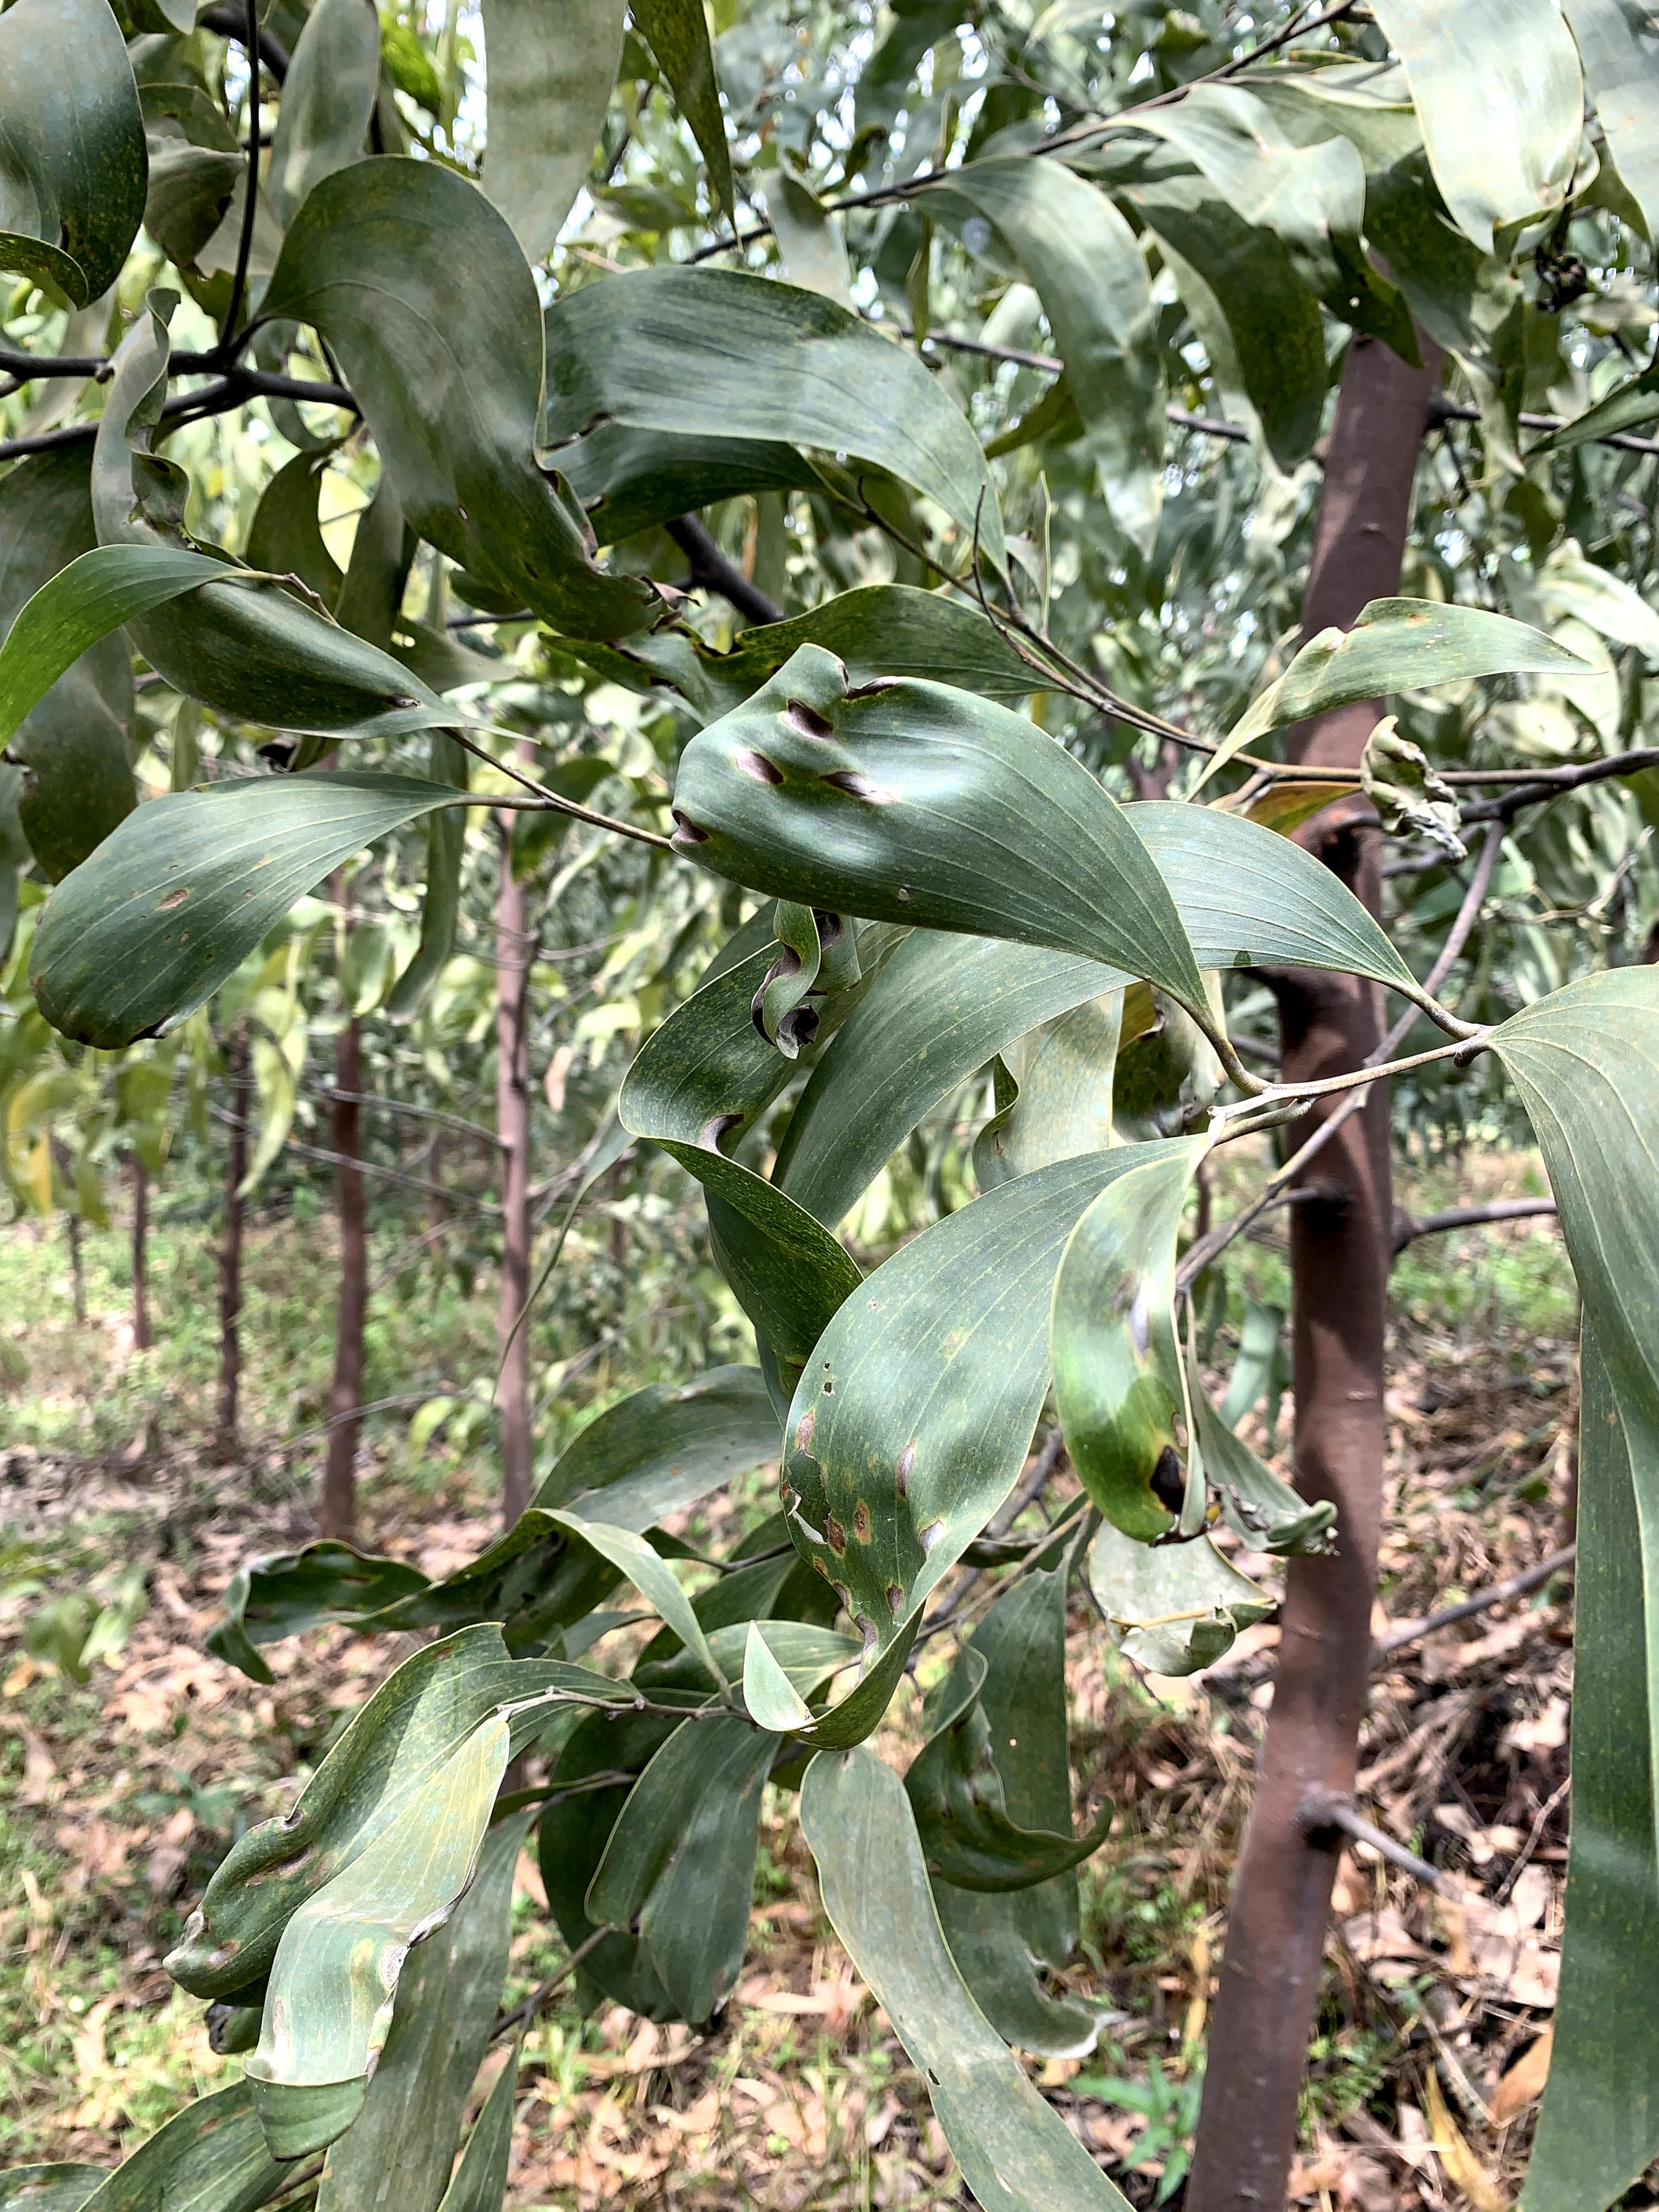Pasalora: (657, 627, 1202, 981), (274, 221, 650, 660), (77, 300, 413, 744), (1389, 5, 1659, 409), (789, 1197, 967, 1763), (1058, 1193, 1305, 1588), (268, 1796, 519, 2153), (3, 810, 239, 1055), (899, 1649, 1103, 1904), (129, 1763, 295, 2038)
